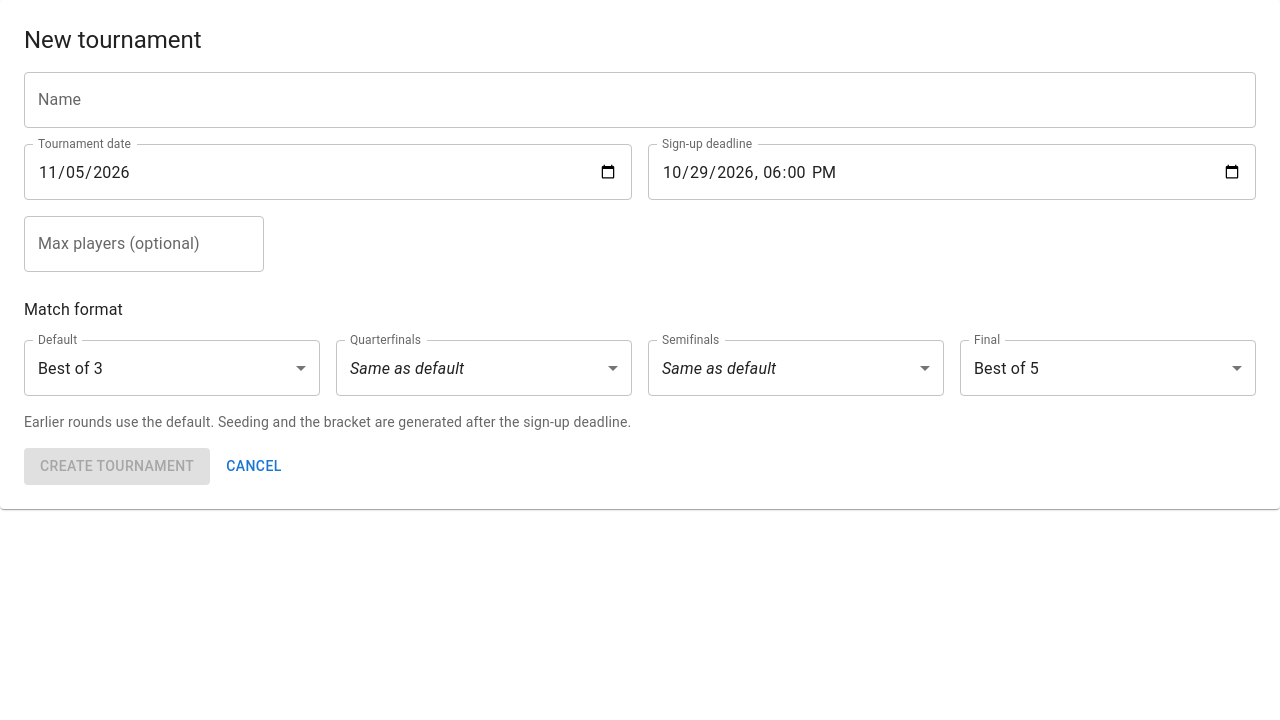
Scenario: TournamentFormPage › blocks saving when a date is cleared
Type "Winter Cup" into the field labelled "Name" at (640, 100), box [24,72,1256,128]
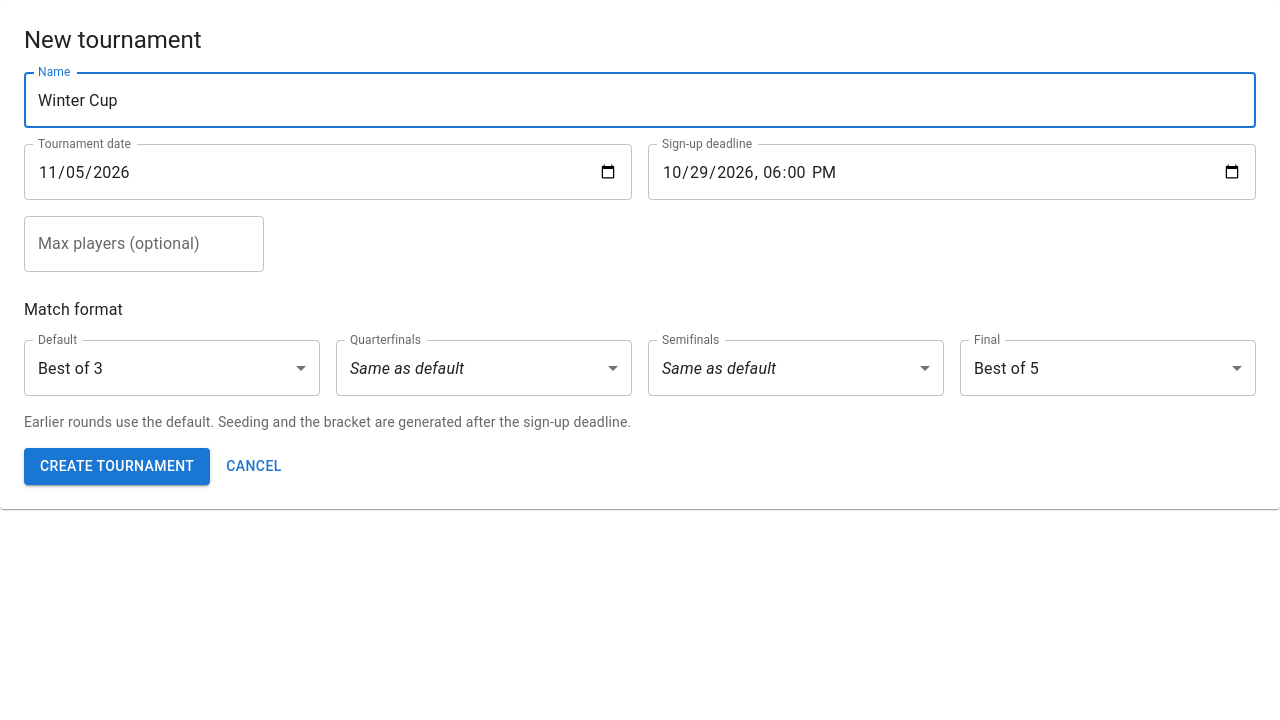
Check: the button "Create tournament" is enabled, box [24,448,210,484]
Clear the field labelled "Sign-up deadline" at (952, 172), box [648,144,1256,200]
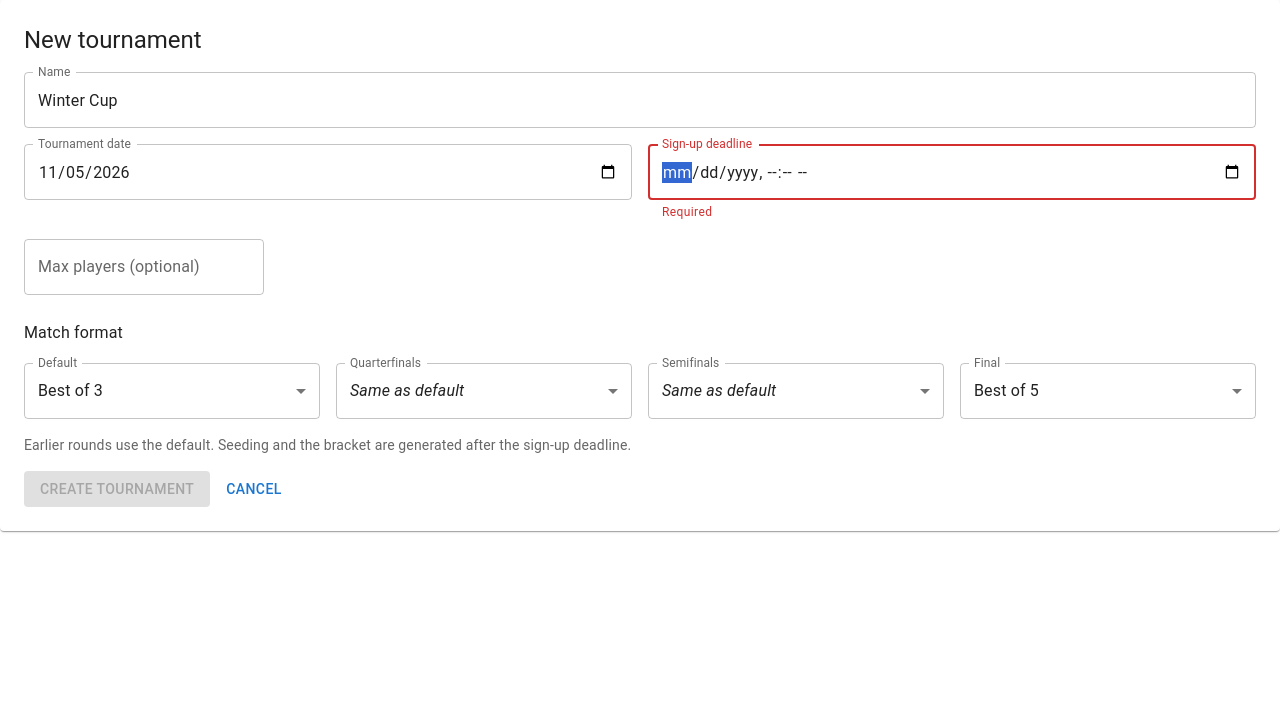
Check: the button "Create tournament" is disabled, box [24,471,210,507]
Check: the text "Required" is shown, box [662,205,712,219]
